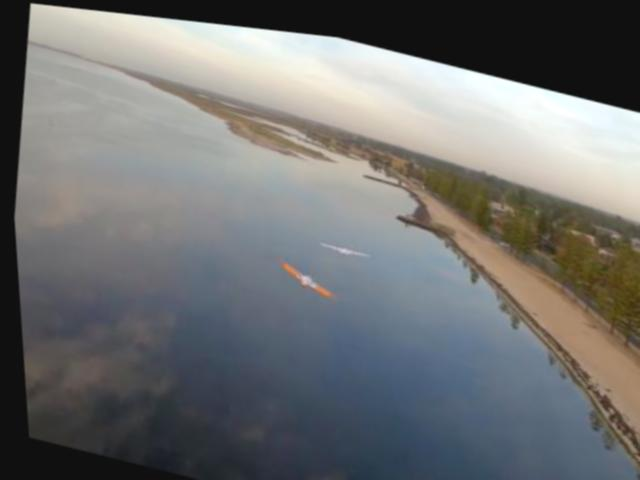uav: (271, 248, 336, 297), (314, 227, 370, 255)
